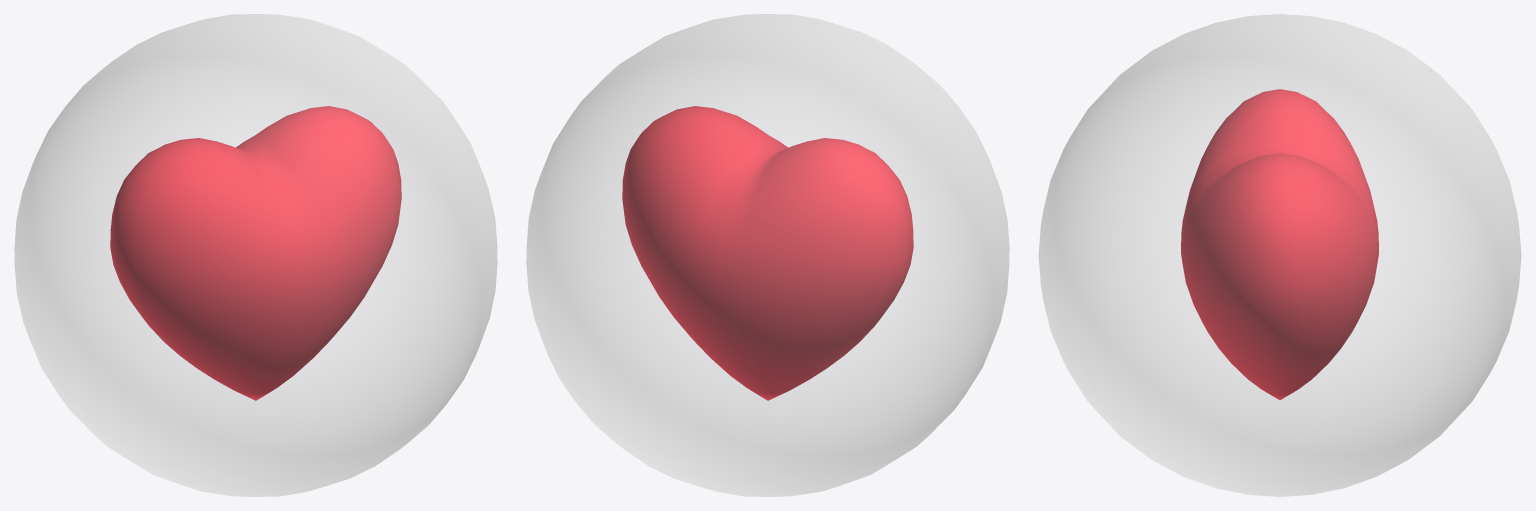
3 views of the same model, side by side, from view 1: azimuth 30°, elevation 25°; view 2: azimuth 150°, elevation 25°; view 3: azimuth 270°, elevation 25° (orthographic).
Visible parts, largest first — view 1: Marble_Marble_0_6, Heart_Heart_0_4; view 2: Marble_Marble_0_6, Heart_Heart_0_4; view 3: Marble_Marble_0_6, Heart_Heart_0_4.
Boxes of the visible parts, box(x1,y1,x2,y2) form: Marble_Marble_0_6: box(14, 14, 497, 496); Heart_Heart_0_4: box(110, 106, 401, 400); Marble_Marble_0_6: box(526, 14, 1009, 496); Heart_Heart_0_4: box(622, 106, 913, 400); Marble_Marble_0_6: box(1038, 14, 1521, 496); Heart_Heart_0_4: box(1181, 89, 1378, 399).
Bounding box in the file's own units: 200 × 200 × 200.
2 materials, 2 textured.
